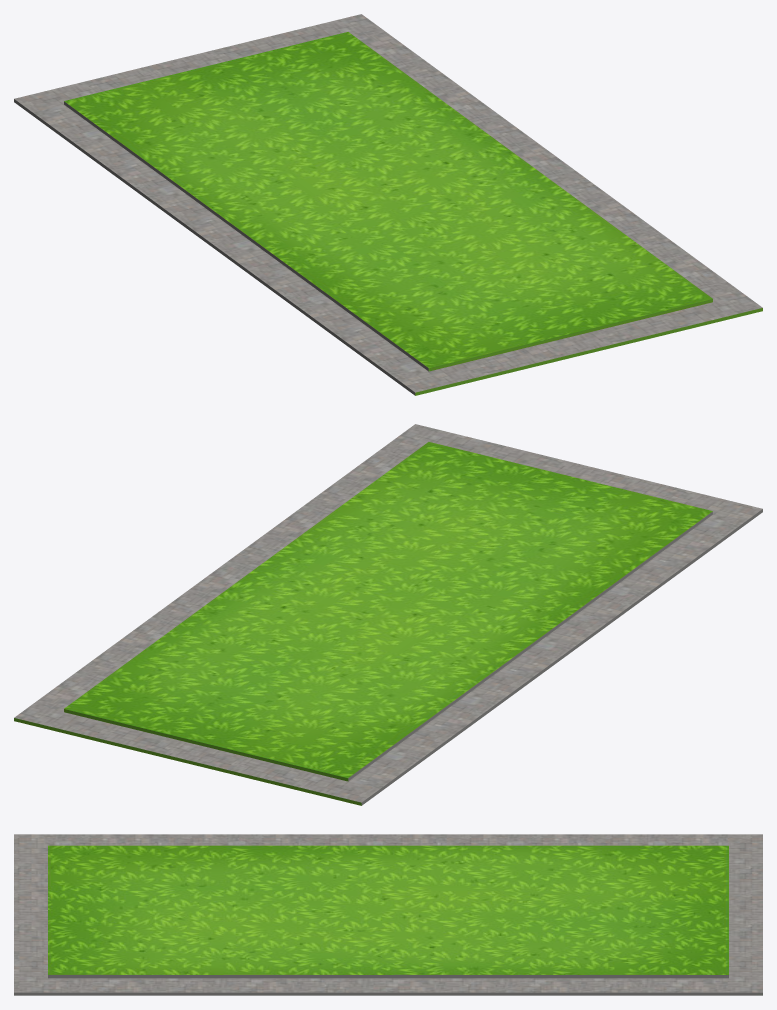
The picture shows the model from 3 angles, top to bottom: view 1: azimuth 30°, elevation 25°; view 2: azimuth 150°, elevation 25°; view 3: azimuth 270°, elevation 25°; orthographic projection. The views are drawn at different scales.
Visible parts, largest first — view 1: 2x; view 2: 2x; view 3: 2x.
Boxes of the visible parts, x1,y1,x2,y2 form: 2x: [14, 14, 762, 395]; 2x: [14, 424, 762, 805]; 2x: [14, 834, 762, 995].
Bounding box in the file's own units: 11 × 0.2 × 22.
Materials: 1 (1 with a texture image).
